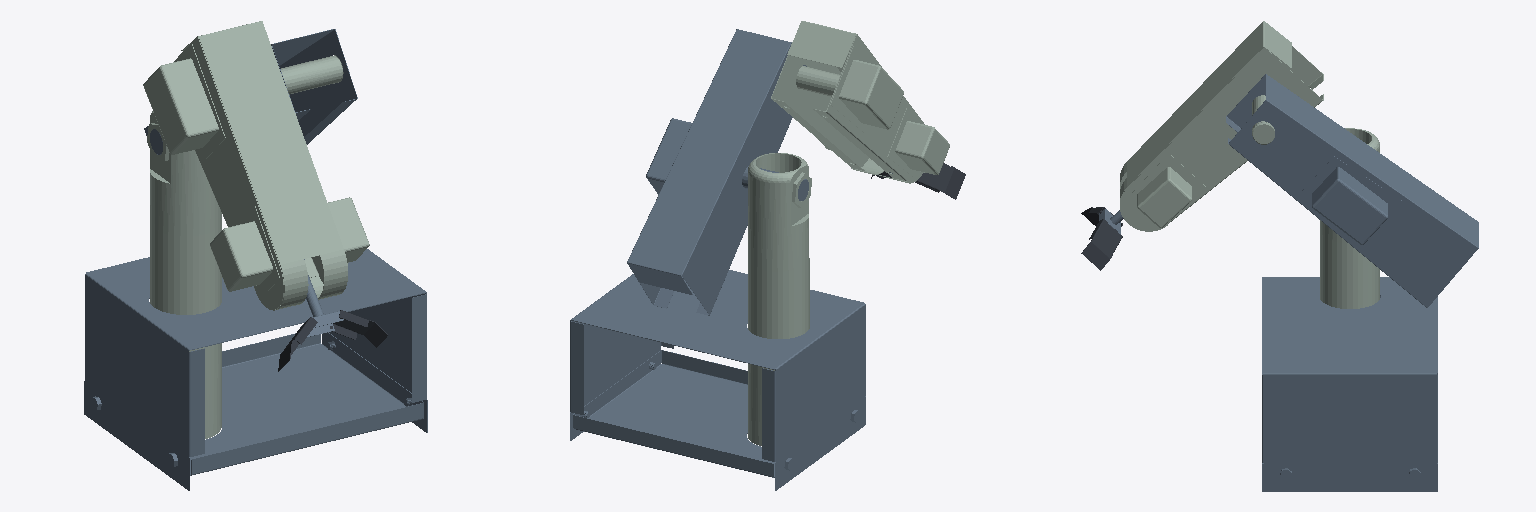
URDF robot description (urdf-created-robot-arm):
<?xml version="1.0" ?>
<robot name="urdf-created-robot-arm" >


<link name="base_link">
  <inertial>
    <origin xyz="0.011212285461385812 3.7440178664630766e-05 0.26610601777637316" rpy="0 0 0"/>
        <mass value="4.450889744850087"/>
    <inertia ixx="3.636239" iyy="6.762527" izz="7.131112" ixy="0.000191" iyz="0.000144" ixz="-0.012625"/>
  </inertial>
  <visual>
    <origin xyz="0 0 0" rpy="0 0 0"/>
    <geometry>
      <mesh filename="meshes/base_link.stl" scale="0.001 0.001 0.001"/>
    </geometry>
      <material name="iron">
      <color rgba="0.4392 0.5020 0.5647 1"/>
    </material>
  </visual>
  <collision>
    <origin xyz="0 0 0" rpy="0 0 0"/>
    <geometry>
      <mesh filename="meshes/base_link.stl" scale="0.001 0.001 0.001"/>
    </geometry>
  </collision>
</link>

<link name="grip2_1">
  <inertial>
    <origin xyz="0.06669822505310585 -0.05129673726504047 0.009231213593641985" rpy="0 0 0"/>
    <mass value="0.05686278852886531"/>
    <inertia ixx="0.001245" iyy="0.00148" izz="0.00148" ixy="0.000449" iyz="8.7e-05" ixz="0.000449"/>
  </inertial>
  <visual>
    <origin xyz="0.24164 0.911802 -0.7855" rpy="0 0 0"/>
    <geometry>
      <mesh filename="meshes/grip2_1.stl" scale="0.001 0.001 0.001"/>
    </geometry>
    <material name="iron">
      <color rgba="0.25 0.27 0.30 1.0"/>
    </material>
  </visual>
  <collision>
    <origin xyz="0.24164 0.911802 -0.7855" rpy="0 0 0"/>
    <geometry>
      <mesh filename="meshes/grip2_1.stl" scale="0.001 0.001 0.001"/>
    </geometry>
  </collision>
</link>

<link name="grip1_1">
  <inertial>
    <origin xyz="-0.06683730879035193 -0.05143876844297823 0.009089182415703001" rpy="0 0 0"/>
    <mass value="0.05686278852886531"/>
    <inertia ixx="0.001261" iyy="0.001489" izz="0.001489" ixy="-0.00045" iyz="9.3e-05" ixz="-0.00045"/>
  </inertial>
  <visual>
    <origin xyz="0.34364 0.911802 -0.7855" rpy="0 0 0"/>
    <geometry>
      <mesh filename="meshes/grip1_1.stl" scale="0.001 0.001 0.001"/>
    </geometry>
    <material name="iron">
      <color rgba="0.25 0.27 0.30 1.0"/>
    </material>
  </visual>
  <collision>
    <origin xyz="0.34364 0.911802 -0.7855" rpy="0 0 0"/>
    <geometry>
      <mesh filename="meshes/grip1_1.stl" scale="0.001 0.001 0.001"/>
    </geometry>
  </collision>
</link>

<link name="rod-link_1">
  <inertial>
    <origin xyz="-0.00017794322550324093 6.160532441936682e-07 0.5308194187745353" rpy="0 0 0"/>
      <mass value="5.543670663079757"/>
    <inertia ixx="19.425321" iyy="19.361664" izz="1.790332" ixy="1e-05" iyz="-5.4e-05" ixz="0.016118"/>
  </inertial>
  <visual>
    <origin xyz="0.265 -0.0 -0.0645" rpy="0 0 0"/>
    <geometry>
      <mesh filename="meshes/rod-link_1.stl" scale="0.001 0.001 0.001"/>
    </geometry>
    <material name="iron-grey">
    <color rgba="0.650 0.710 0.675 1.0"/>
    </material>
  </visual>
   <collision>
    <origin xyz="0 0 0.85" rpy="0 0 1.5708 "/>
    <geometry>
      <cylinder radius="0.12" length="0.56"/>
    </geometry>
  </collision>
</link>

<link name="grip-rod_1">
  <inertial>
    <origin xyz="0.11999977269486145 0.0027411693482291 0.002740856138199854" rpy="0 0 0"/>
      <mass value="0.5419936098790756"/>
    <inertia ixx="0.012445" iyy="0.152918" izz="0.152918" ixy="-0.0" iyz="0.000675" ixz="0.0"/>
  </inertial>
  <visual>
    <origin xyz="0.41264 0.712925 -1.044481" rpy="0 0 0"/>
    <geometry>
      <mesh filename="meshes/grip-rod_1.stl" scale="0.001 0.001 0.001"/>
    </geometry>
     <material name="iron">
      <color rgba="0.4392 0.5020 0.5647 1.0"/>
    </material>
  </visual>
  <!-- <collision>
    <origin xyz="0.41264 0.712925 -1.044481" rpy="0 0 0"/>
    <geometry>
      <mesh filename="meshes/grip-rod_1.stl" scale="0.001 0.001 0.001"/>
    </geometry>
  </collision> -->
</link>

<link name="grip-base_1">
  <inertial>
    <origin xyz="-2.2730520748970306e-07 -0.14473194208198392 -0.1447322552920135" rpy="0 0 0"/>
      <mass value="0.06768974762475558"/>
    <inertia ixx="0.006" iyy="0.003461" izz="0.003461" ixy="-0.0" iyz="-0.002537" ixz="-0.0"/>
  </inertial>
  <visual>
    <origin xyz="0.29264 0.736793 -1.020613" rpy="0 0 0"/>
    <geometry>
      <mesh filename="meshes/grip-base_1.stl" scale="0.001 0.001 0.001"/>
    </geometry>
     <material name="iron">
      <color rgba="0.4392 0.5020 0.5647 1.0"/>
    </material>
  </visual>
  <collision>
    <origin xyz="0.29264 0.736793 -1.020613" rpy="0 0 0"/>
    <geometry>
      <mesh filename="meshes/grip-base_1.stl" scale="0.001 0.001 0.001"/>
    </geometry>
  </collision>
</link>






<link name="arm1_1">
  <inertial>
    <origin xyz="0.15213625068449144 0.03127568940503136 -0.02094141776146552" rpy="0 0 0"/>
    <mass value="3.0328862921595334"/>
    <inertia ixx="1.703468" iyy="2.244142" izz="2.491282" ixy="-0.008002" iyz="0.645254" ixz="0.005302"/>
  </inertial>
  <visual>
    <origin xyz="0.16614 -0.0 -1.1145" rpy="0 0 0"/>
    <geometry>
      <mesh filename="meshes/arm1_1.stl" scale="0.001 0.001 0.001"/>
    </geometry>
    <material name="iron">
      <color rgba="0.4392 0.5020 0.5647 1.0"/>
    </material>
  </visual>
   <collision>
    <origin xyz="0.16 0.02 0.015" rpy="-0.655 0 0"/>
    <geometry>
      <box size="0.23 1.05 0.25"/>
    </geometry>
  </collision>
</link>

<link name="arm2_1">
  <inertial>
    <origin xyz="-0.14547625429899594 -0.11145605239659284 -0.10924584240081248" rpy="0 0 0"/>
    <mass value="3.804553608488219"/>
    <inertia ixx="4.756159" iyy="4.783677" izz="4.832867" ixy="-0.138355" iyz="-2.108405" ixz="-0.122322"/>
  </inertial>
  <visual>
    <origin xyz="0.13064 0.34107 -1.408016" rpy="0 0 0"/>
    <geometry>
      <mesh filename="meshes/arm2_1.stl" scale="0.001 0.001 0.001"/>
    </geometry>
      <material name="iron-grey">
    <color rgba="0.650 0.710 0.675 1.0"/>
    </material>
  </visual>
  <collision>
    <origin xyz="-0.16 -0.11 -0.1" rpy="0.8 0 0"/>
    <geometry>
      <box size="0.23 0.6 0.26"/>
    </geometry>
  </collision>
  
<collision>
    <origin xyz="-0.25 -0.41 -0.4" rpy="0 1.5708  0"/>
    <geometry>
      <cylinder radius="0.107" length="0.06"/>
    </geometry>
  </collision>
  <collision>

    <origin xyz="-0.075 -0.41 -0.4" rpy="0 1.5708  0"/>
    <geometry>
      <cylinder radius="0.107" length="0.06"/>
    </geometry>
  </collision>

  
</link>

<joint name="grip-base-to-grip" type="revolute">
  <origin xyz="0.051 -0.175009 -0.235113" rpy="0 0 0"/>
  <parent link="grip-base_1"/>
  <child link="grip2_1"/>
  <axis xyz="-0.0 0.707107 -0.707107"/>
  <limit upper="1.22173" lower="0.0" effort="100" velocity="100"/>
</joint>

<joint name="grip-base-to-grip2" type="revolute">
  <origin xyz="-0.051 -0.175009 -0.235113" rpy="0 0 0"/>
  <parent link="grip-base_1"/>
  <child link="grip1_1"/>
  <axis xyz="-0.0 0.707107 -0.707107"/>
  <limit upper="0.0" lower="-1.22173" effort="100" velocity="100"/>
</joint>
<!-- 3.141593 -->
<!-- 3.141593 -->
<joint name="base-to-rod" type="revolute">
  <origin xyz="-0.265 0.0 0.0645" rpy="0 0 0"/>
  <parent link="base_link"/>
  <child link="rod-link_1"/>
  <axis xyz="0.0 0.0 -1.0"/>
  <limit upper="3.141593" lower="-3.141593" effort="100" velocity="100"/>
</joint>

<joint name="arm2-to-grip-rod" type="revolute">
  <origin xyz="-0.282 -0.371855 -0.363535" rpy="0 0 0"/>
  <parent link="arm2_1"/>
  <child link="grip-rod_1"/>
  <axis xyz="-1.0 -0.0 -0.0"/>
  <limit upper="0.523599" lower="-0.523599" effort="100" velocity="100"/>
</joint>

<joint name="grip-rod-to-grip-bse" type="revolute">
  <origin xyz="0.12 -0.023868 -0.023868" rpy="0 0 0"/>
  <parent link="grip-rod_1"/>
  <child link="grip-base_1"/>
  <axis xyz="-0.0 0.707107 0.707107"/>
  <limit upper="3.141593" lower="-3.141593" effort="100" velocity="100"/>
</joint>
<!-- 3.117994 -->
<!-- -1.412665 -->
<joint name="rod-to-arm1" type="revolute">
  <origin xyz="0.09886 0.0 1.05" rpy="0 0 0"/>
  <parent link="rod-link_1"/>
  <child link="arm1_1"/>
  <axis xyz="-1.0 0.0 0.0"/>
  <limit upper="3.117994 " lower="-1.412665" effort="100" velocity="100"/>
</joint>
<!-- 3.839724 -->
<joint name="1sr-arm-to-2nd-arm" type="revolute">
  <origin xyz="0.0355 -0.34107 0.293516" rpy="0 0 0"/>
  <parent link="arm1_1"/>
  <child link="arm2_1"/>
  <axis xyz="-1.0 -0.0 -0.0"/>
  <limit upper="3.839724" lower="-0.523599" effort="100" velocity="100"/>
</joint>








</robot>

--- Facts derived from the render (not from the file) ---
The picture shows the robot from 3 angles, left to right: view 1: azimuth 30°, elevation 25°; view 2: azimuth 150°, elevation 25°; view 3: azimuth 270°, elevation 25°; orthographic projection.
Model urdf-created-robot-arm with 8 links and 7 joints (7 revolute), rooted at base_link, posed every joint at zero.
Links seen in each view (by area): view 1: base_link, arm2_1, rod-link_1, arm1_1, grip2_1, grip-base_1, grip1_1; view 2: base_link, arm1_1, arm2_1, rod-link_1, grip1_1; view 3: base_link, arm1_1, arm2_1, rod-link_1, grip2_1.
Link boxes in pixels (x1=…): base_link: x1=84, y1=249, x2=427, y2=490; arm2_1: x1=143, y1=21, x2=369, y2=310; rod-link_1: x1=147, y1=111, x2=221, y2=438; arm1_1: x1=144, y1=29, x2=357, y2=154; grip2_1: x1=330, y1=310, x2=387, y2=347; grip-base_1: x1=300, y1=275, x2=343, y2=336; grip1_1: x1=278, y1=317, x2=317, y2=371; base_link: x1=570, y1=270, x2=865, y2=490; arm1_1: x1=627, y1=29, x2=808, y2=315; arm2_1: x1=771, y1=21, x2=949, y2=183; rod-link_1: x1=748, y1=153, x2=811, y2=445; grip1_1: x1=915, y1=163, x2=965, y2=199; base_link: x1=1262, y1=277, x2=1437, y2=491; arm1_1: x1=1226, y1=74, x2=1478, y2=307; arm2_1: x1=1120, y1=21, x2=1323, y2=231; rod-link_1: x1=1320, y1=128, x2=1379, y2=308; grip2_1: x1=1081, y1=219, x2=1122, y2=270.
Size in the robot's own frame: 1 by 1.56 by 1.63 metres.
8 mesh visuals loaded from 8 distinct referenced files (8 binary STL).